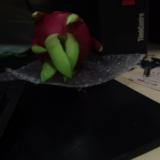pitaya: (31, 10, 102, 81)
